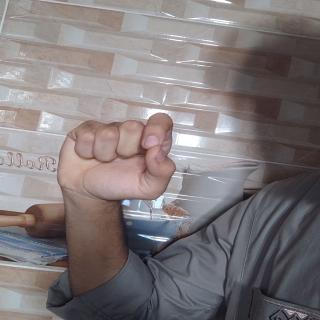FAA: (54, 108, 186, 219)
